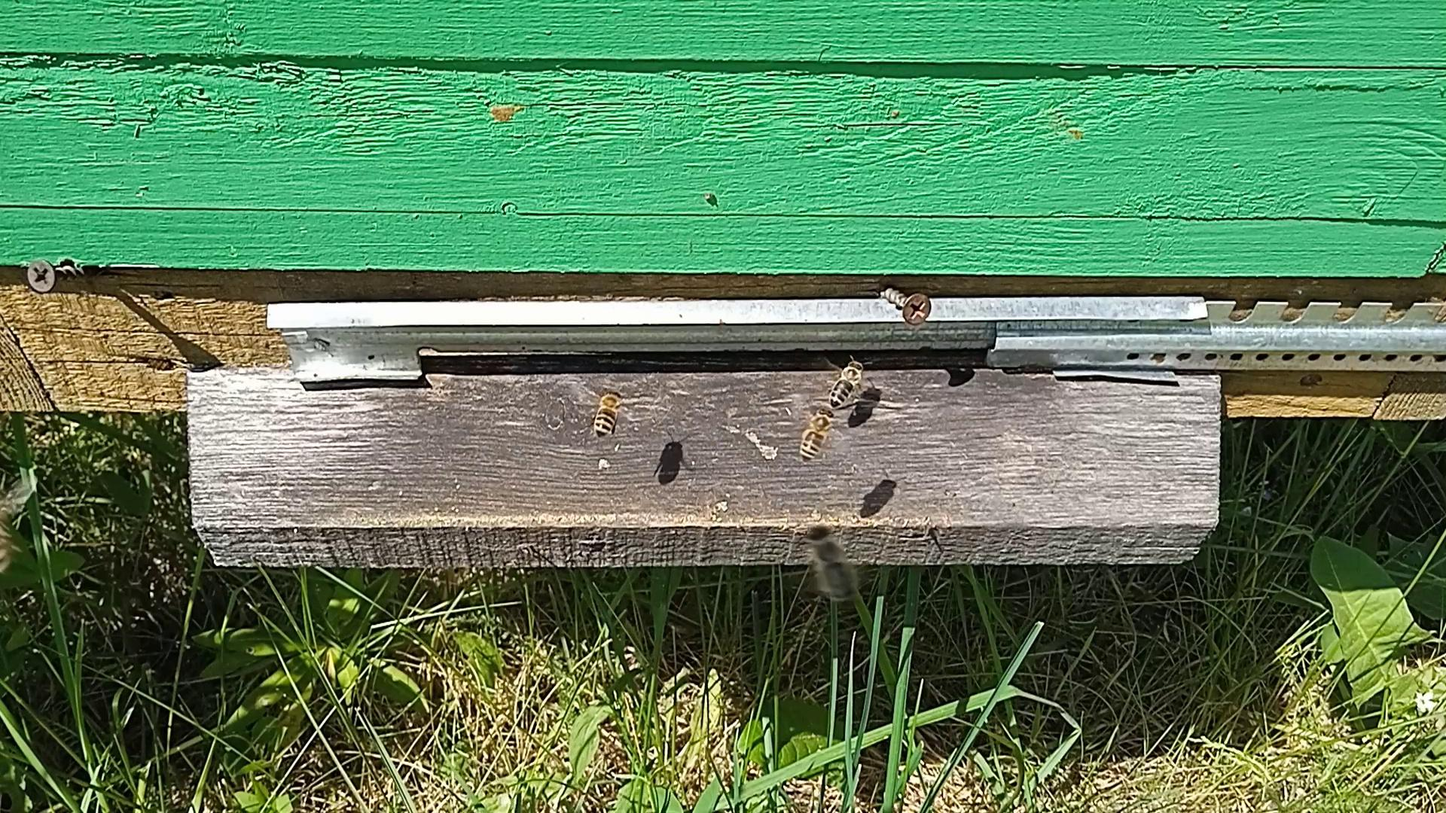worker-bee: (804, 525, 859, 605), (799, 406, 837, 462), (829, 358, 868, 409), (592, 388, 623, 437), (0, 511, 13, 581), (0, 524, 15, 582)
